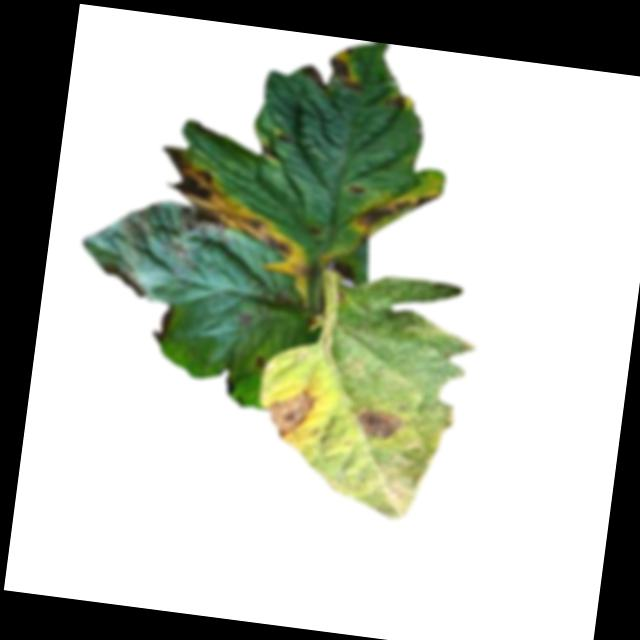Early_blight: (147, 145, 325, 279), (117, 197, 227, 269), (353, 185, 441, 240), (296, 53, 366, 99), (264, 384, 317, 442), (98, 263, 147, 299), (353, 408, 401, 441), (148, 304, 176, 345), (388, 93, 408, 114), (346, 185, 363, 197), (255, 354, 266, 370)
